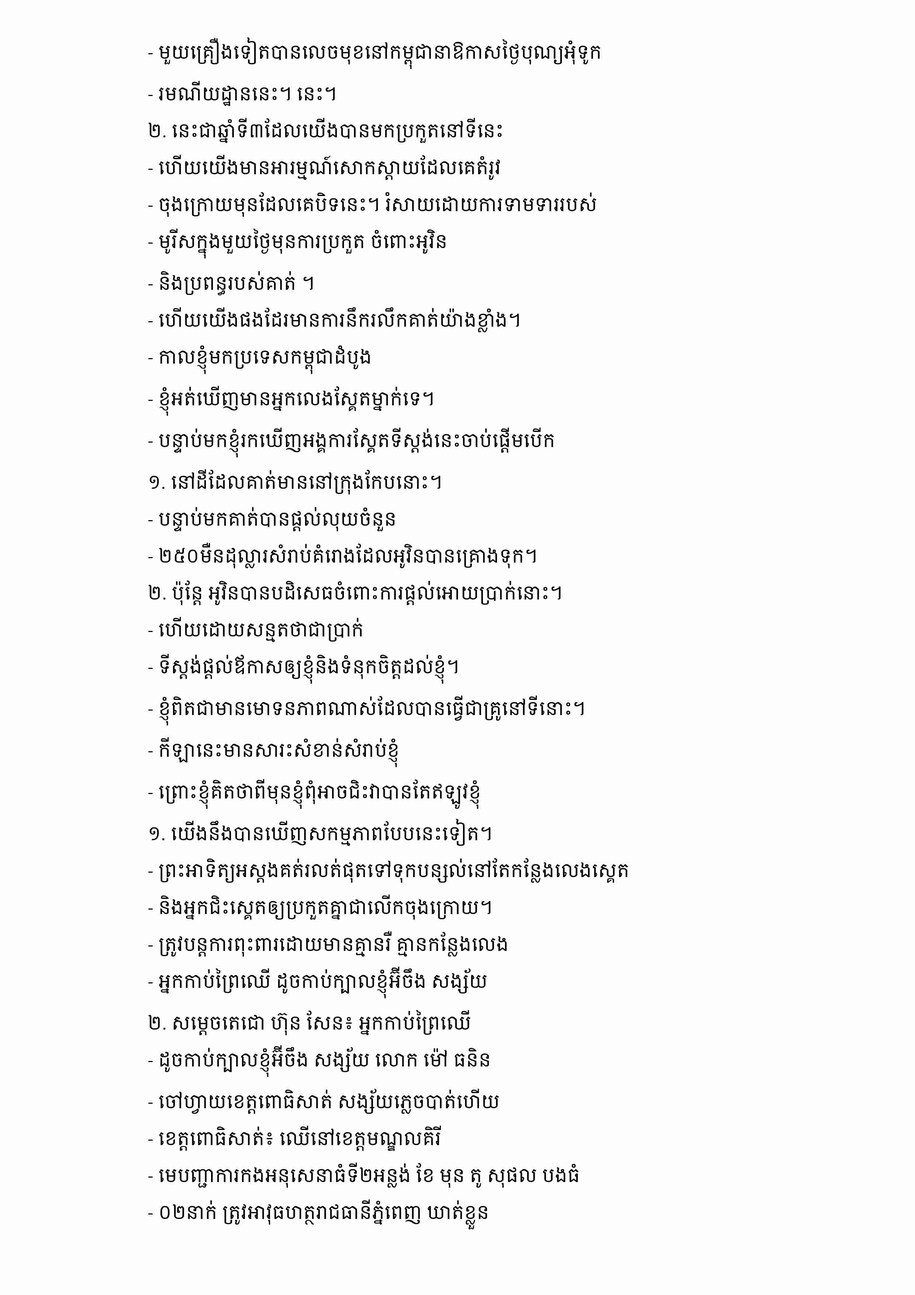text: (148, 37, 607, 69), (148, 695, 590, 726), (148, 427, 560, 458), (148, 858, 634, 883), (148, 966, 493, 999), (148, 1162, 585, 1188), (148, 192, 602, 217), (148, 1045, 496, 1077), (148, 1199, 494, 1230), (148, 580, 568, 605), (148, 779, 486, 809), (148, 543, 543, 568), (148, 307, 526, 333), (148, 931, 514, 957), (148, 654, 465, 684), (148, 819, 497, 846), (148, 229, 452, 259), (148, 894, 497, 920), (148, 118, 509, 143), (148, 155, 506, 180), (148, 1089, 505, 1114), (148, 386, 439, 416), (148, 1010, 476, 1035), (148, 469, 447, 495), (148, 737, 405, 767), (148, 1126, 446, 1151), (148, 345, 377, 374), (148, 507, 401, 532), (148, 617, 369, 642), (148, 81, 342, 106), (148, 271, 320, 296)
